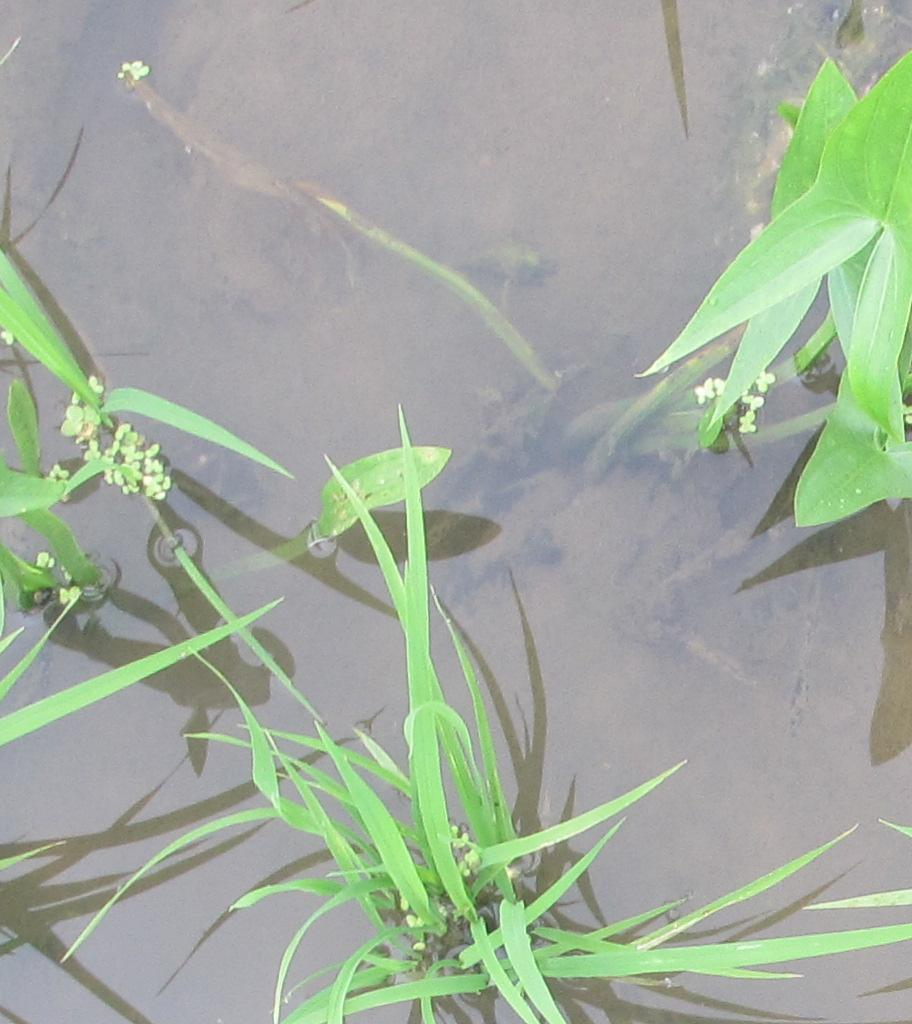Weed: (710, 50, 912, 527), (63, 392, 449, 541)
